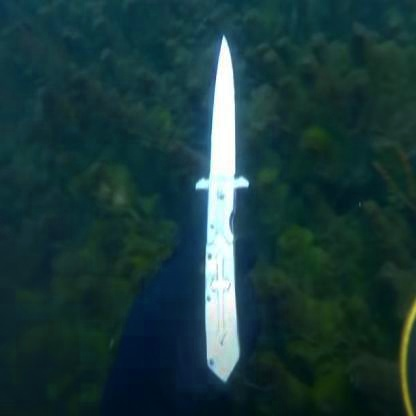misc: (192, 36, 262, 416)
